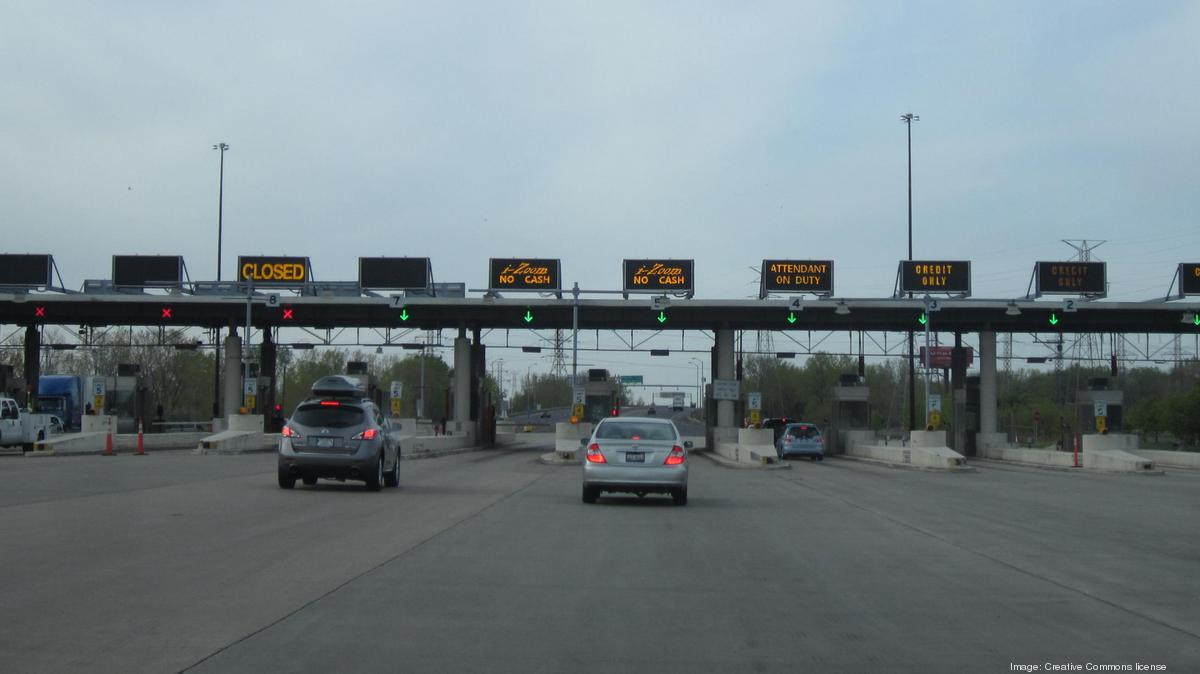bridge: (1, 246, 1195, 360)
